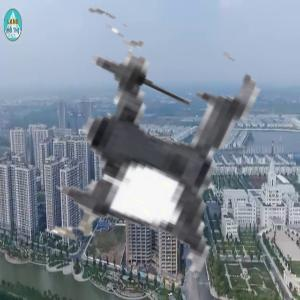drone: (14, 11, 294, 291)
